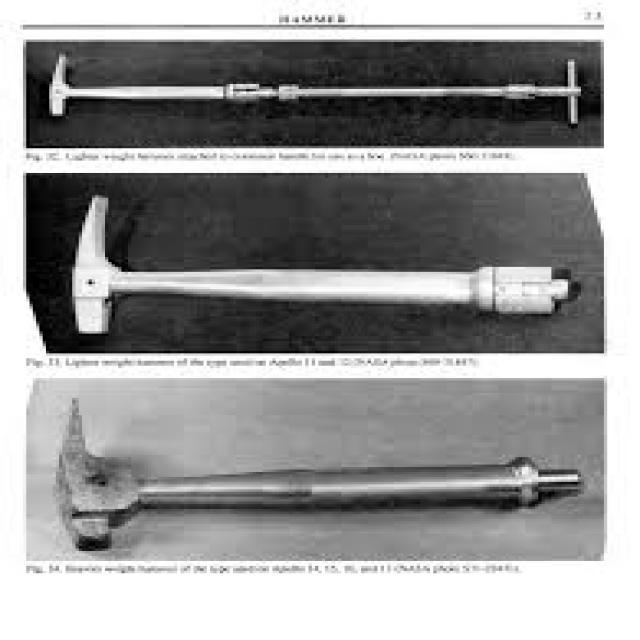hammer: (39, 398, 584, 556), (60, 190, 582, 342), (40, 52, 260, 134)
